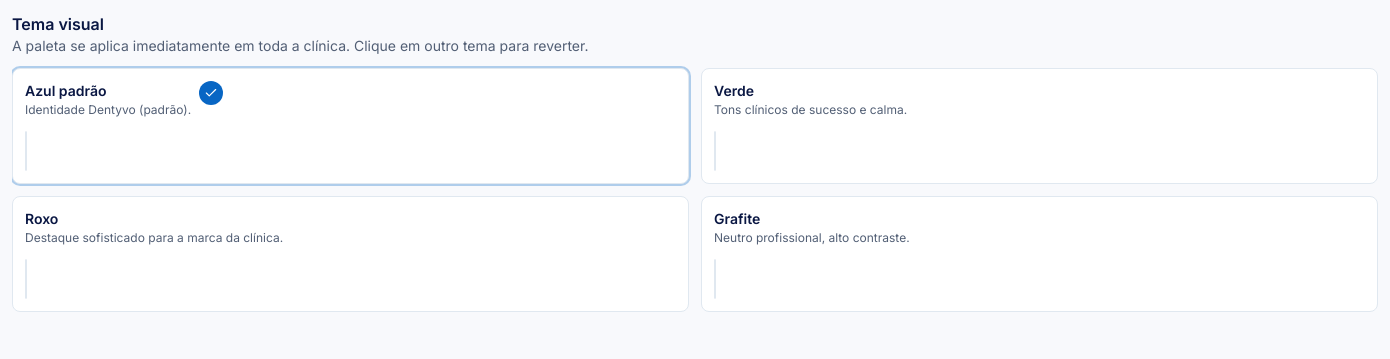
Test case: SeletorTemaClinica › reverte o destaque e informa o erro quando a persistência falha
Click the radio button labelled "Roxo Destaque sofisticado para a marca da clínica." at (42, 218), box [12, 196, 689, 312]
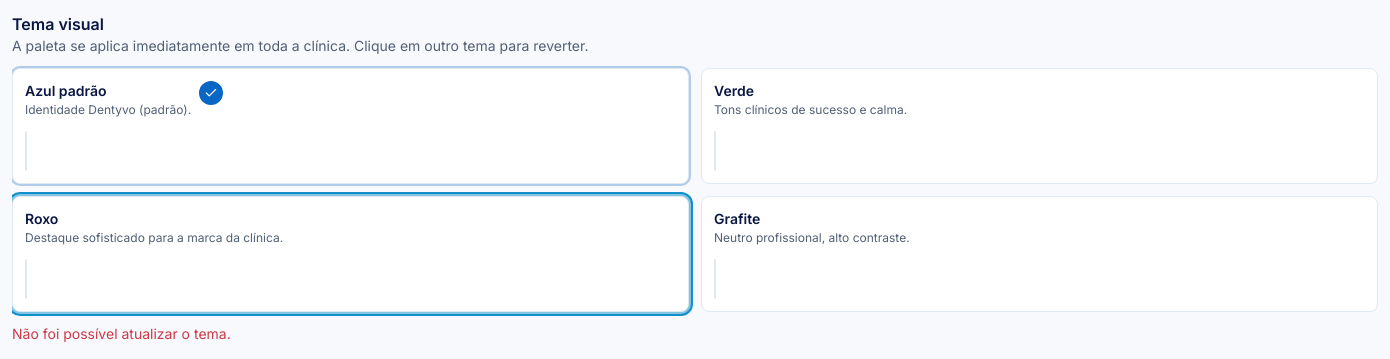
expect the message reads "Não foi possível atualizar o tema.": met, box [12, 325, 231, 342]
